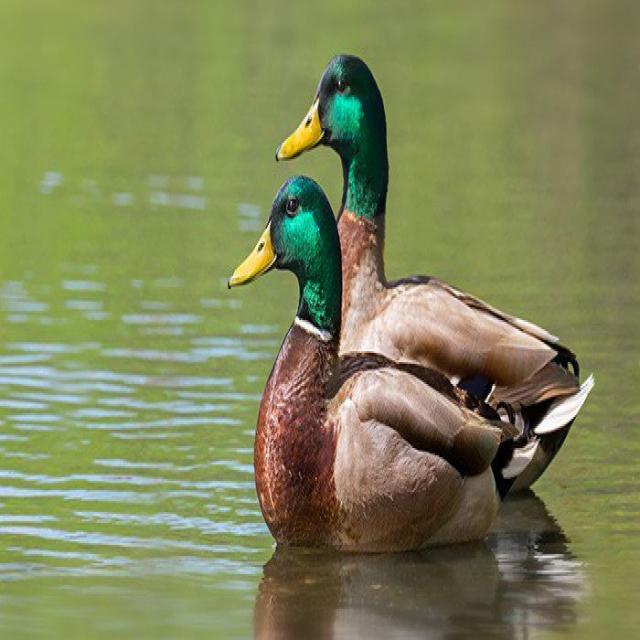Duck: (280, 43, 597, 490), (221, 165, 518, 557)
